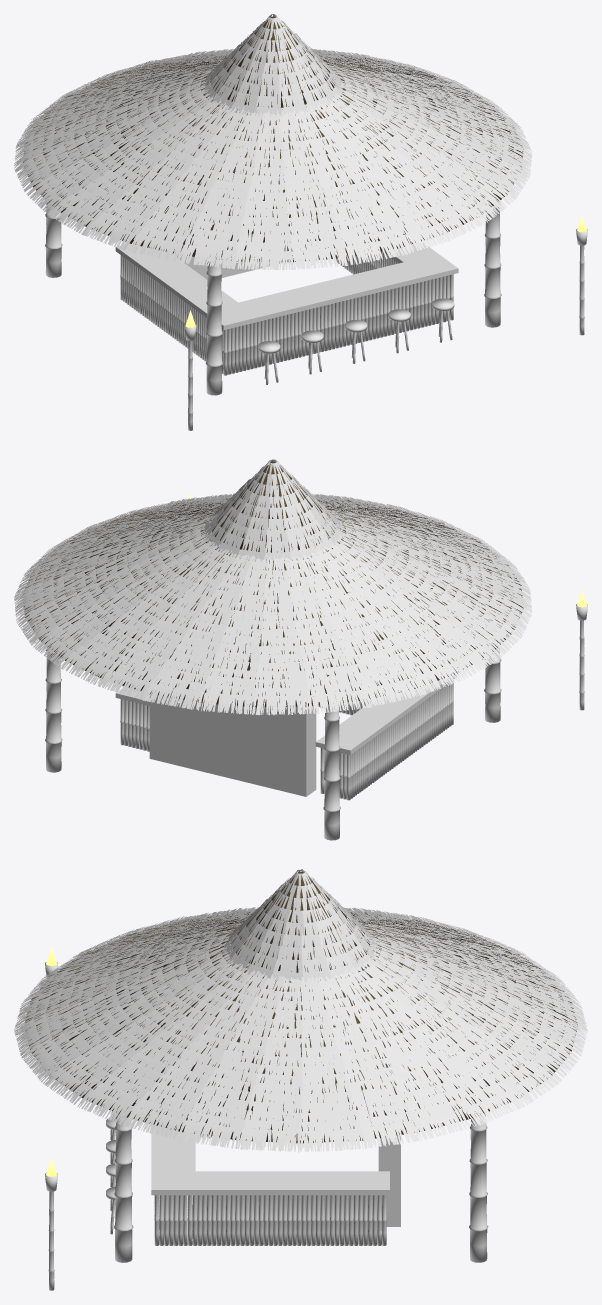
The model's file is TikiBar.fbx.
3 renders of one model, top to bottom at view 1: azimuth 30°, elevation 25°; view 2: azimuth 150°, elevation 25°; view 3: azimuth 270°, elevation 25°, orthographic. The views are drawn at different scales.
Parts seen in each view (by area): view 1: TikiBar_LOD0; view 2: TikiBar_LOD0; view 3: TikiBar_LOD0.
Boxes of the visible parts, box(x1,y1,x2,y2) form: TikiBar_LOD0: box(14, 14, 587, 430); TikiBar_LOD0: box(14, 459, 587, 840); TikiBar_LOD0: box(14, 869, 587, 1290).
Size of what is drawn, in the model's own units: 10.35 by 6.23 by 10.35.
